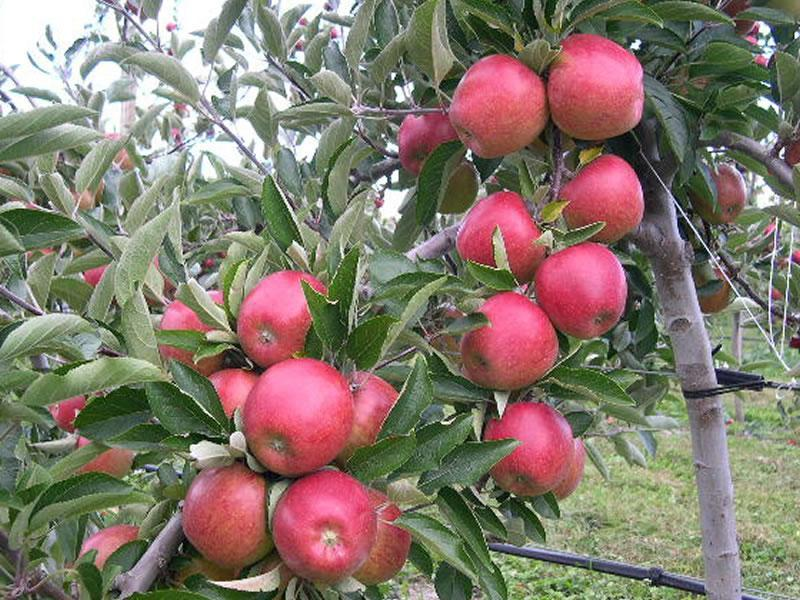apple: (234, 360, 353, 479), (270, 469, 376, 587), (445, 51, 544, 161), (182, 456, 273, 570), (547, 32, 643, 139), (462, 294, 557, 392), (486, 404, 581, 500), (236, 268, 327, 367), (549, 153, 643, 245), (535, 243, 626, 338), (456, 191, 547, 279), (334, 371, 400, 465), (161, 290, 228, 367), (396, 111, 457, 176), (697, 159, 748, 225)
